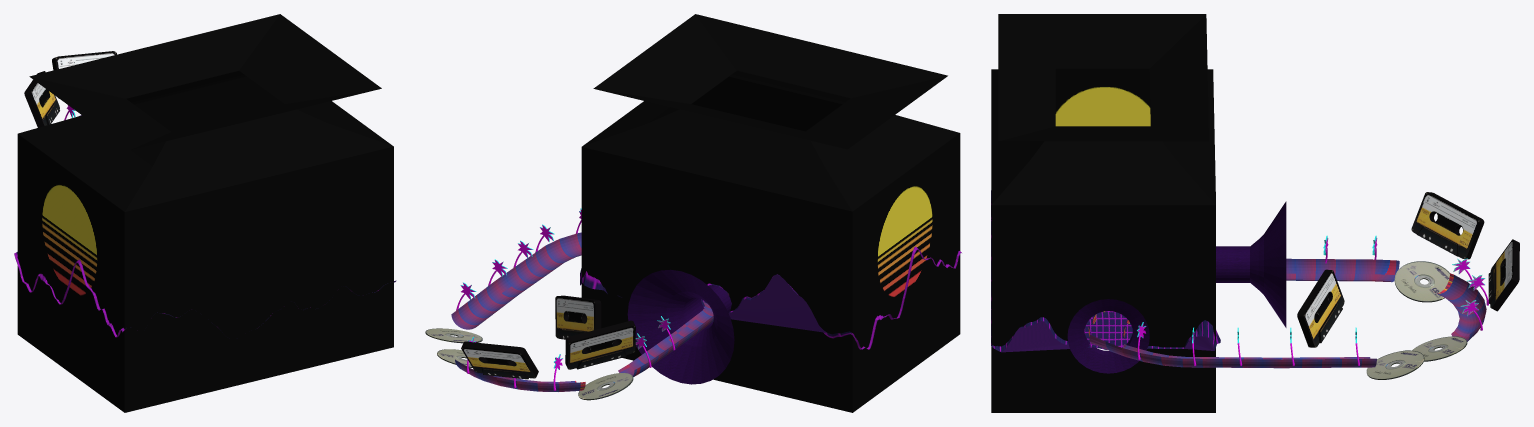
3 views of the same model, side by side, from view 1: azimuth 30°, elevation 25°; view 2: azimuth 150°, elevation 25°; view 3: azimuth 270°, elevation 25° (orthographic). The views are drawn at different scales.
Parts seen in each view (by area): view 1: course-SKP--auto28.001, course-SKP--auto19.002, course-SKP--auto18.004; view 2: course-SKP--auto28.001, course-SKP--Material4.012, course-SKP--auto22.004, course-SKP--auto19.002, course-SKP--auto18.004, course-SKP--auto7.003, course-SKP--auto.001; view 3: course-SKP--auto28.001, course-SKP--Material4.012, course-SKP--auto22.004, course-SKP--auto19.002, course-SKP--auto7.003, course-SKP--auto18.004, course-SKP--auto.001.
Boxes of the visible parts, x1,y1,x2,y2 form: course-SKP--auto28.001: (17, 14, 393, 412); course-SKP--auto19.002: (24, 51, 116, 127); course-SKP--auto18.004: (14, 252, 396, 338); course-SKP--auto28.001: (581, 14, 960, 412); course-SKP--Material4.012: (627, 269, 734, 384); course-SKP--auto22.004: (451, 232, 729, 391); course-SKP--auto19.002: (461, 295, 635, 379); course-SKP--auto18.004: (580, 246, 961, 349); course-SKP--auto7.003: (425, 328, 633, 400); course-SKP--auto.001: (456, 208, 675, 390); course-SKP--auto28.001: (991, 14, 1215, 412); course-SKP--Material4.012: (1067, 201, 1286, 373); course-SKP--auto22.004: (1089, 258, 1486, 368); course-SKP--auto19.002: (1297, 192, 1519, 347); course-SKP--auto7.003: (1366, 261, 1467, 379); course-SKP--auto18.004: (991, 190, 1220, 352); course-SKP--auto.001: (1137, 235, 1488, 366).
Size of the model in its own units: 41239 by 30231 by 54195.
Materials: 9 (9 with a texture image).
